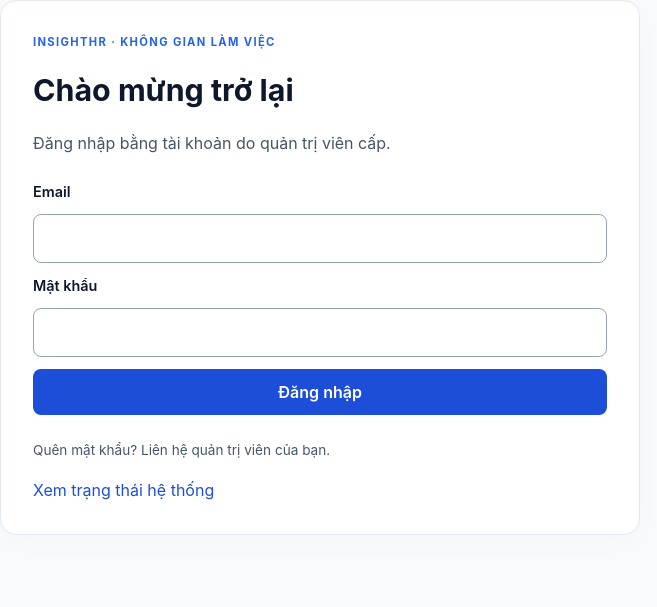
Test: shows a generic credential error without exposing submitted values
In the field labelled "Email": (320, 239) [33, 214, 607, 263], type "a@example.com"
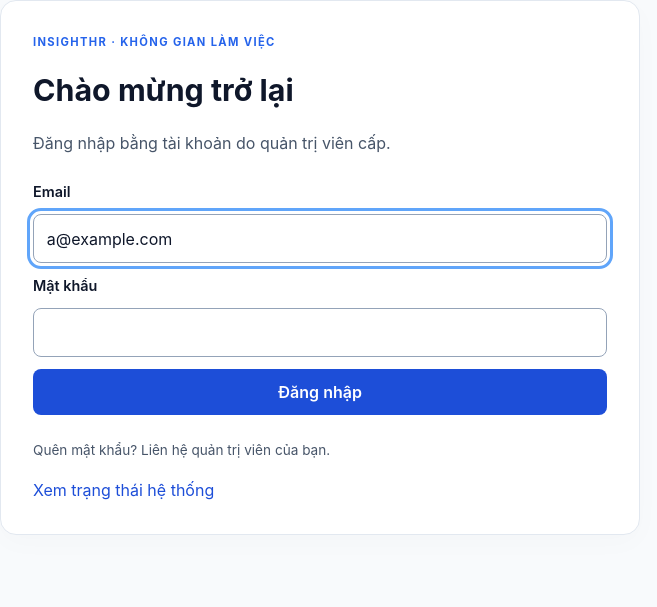
In the password field labelled "Mật khẩu": (320, 333) [33, 308, 607, 357], type "wrong-password"
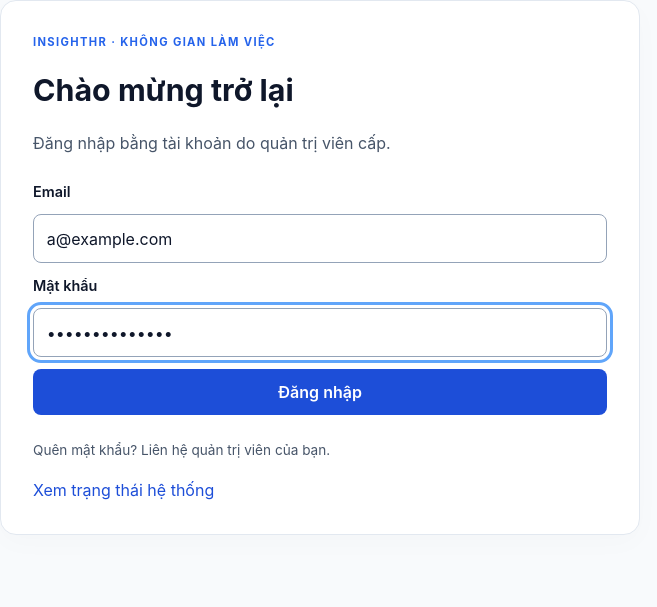
Click the button "Đăng nhập": (320, 392) [33, 369, 607, 415]
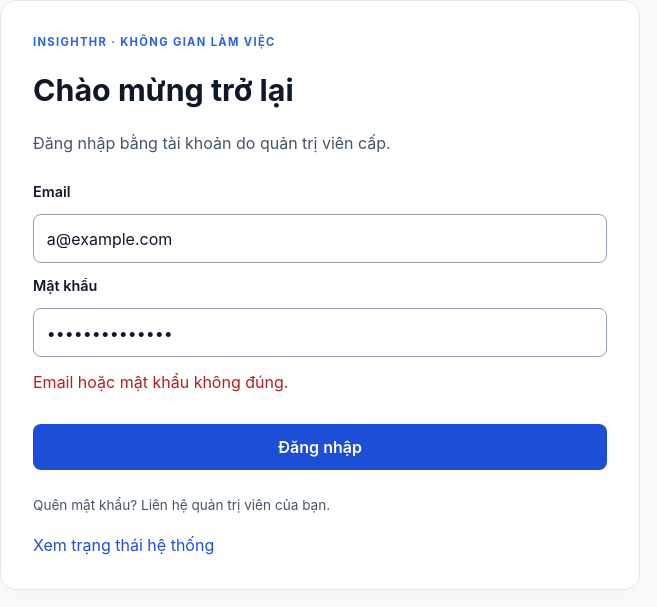
expect the message reads "Email hoặc mật khẩu không đúng.": met, box [33, 372, 288, 392]
